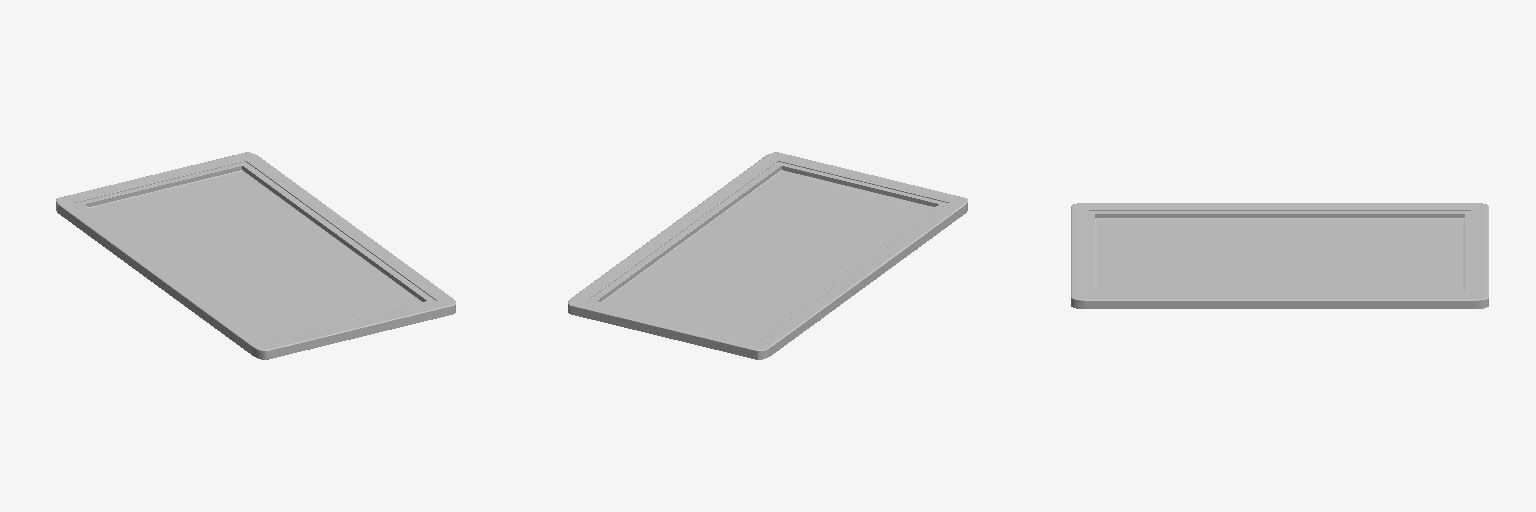
The model's file is PoolTableez.obj.
The picture shows the model from 3 angles: view 1: azimuth 30°, elevation 25°; view 2: azimuth 150°, elevation 25°; view 3: azimuth 270°, elevation 25°; orthographic projection.
Visible parts, largest first — view 1: Cube.002_Cube.000; view 2: Cube.002_Cube.000; view 3: Cube.002_Cube.000.
Part boxes in pixels (x1,y1,x2,y2): Cube.002_Cube.000: (56,152,455,359); Cube.002_Cube.000: (568,152,967,359); Cube.002_Cube.000: (1071,203,1488,308).
Size of the model in its own units: 2.67 by 0.1207 by 4.83.